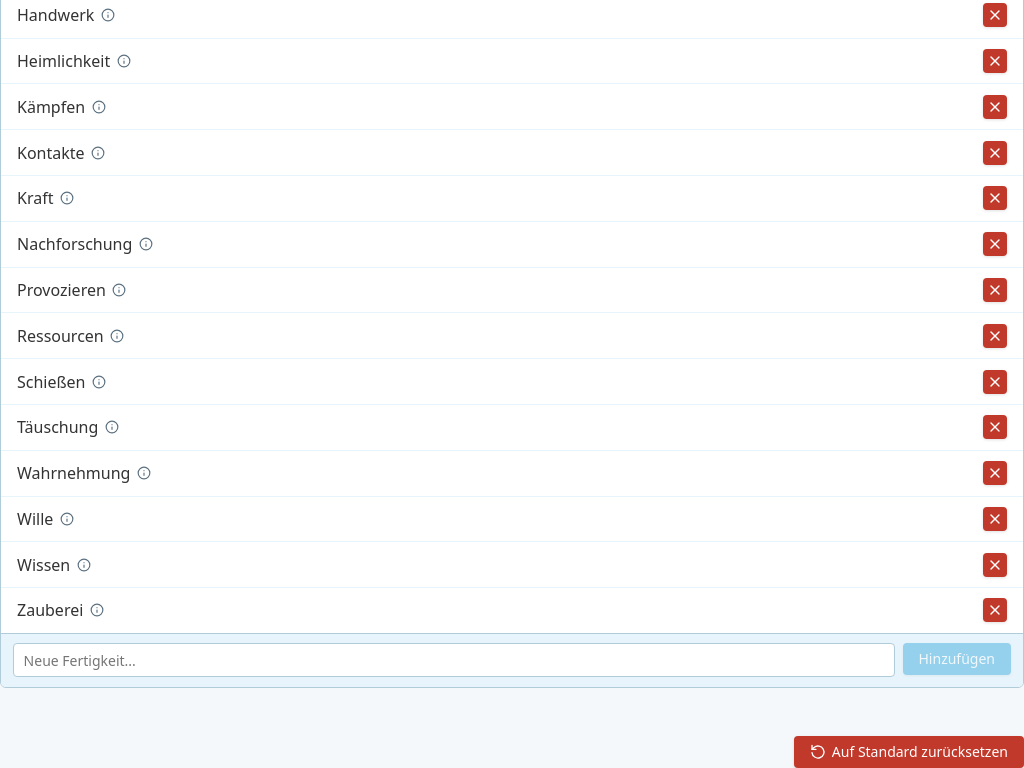
Test case: SkillsView › "Auf Standard zurücksetzen" button › clicking "Abbrechen" closes the dialog without resetting
The width and height of the screenshot is (1024, 768).
(page scrolled)
Click the text "Auf Standard zurücksetzen".
click(920, 752)  # box [832,745,1008,759]
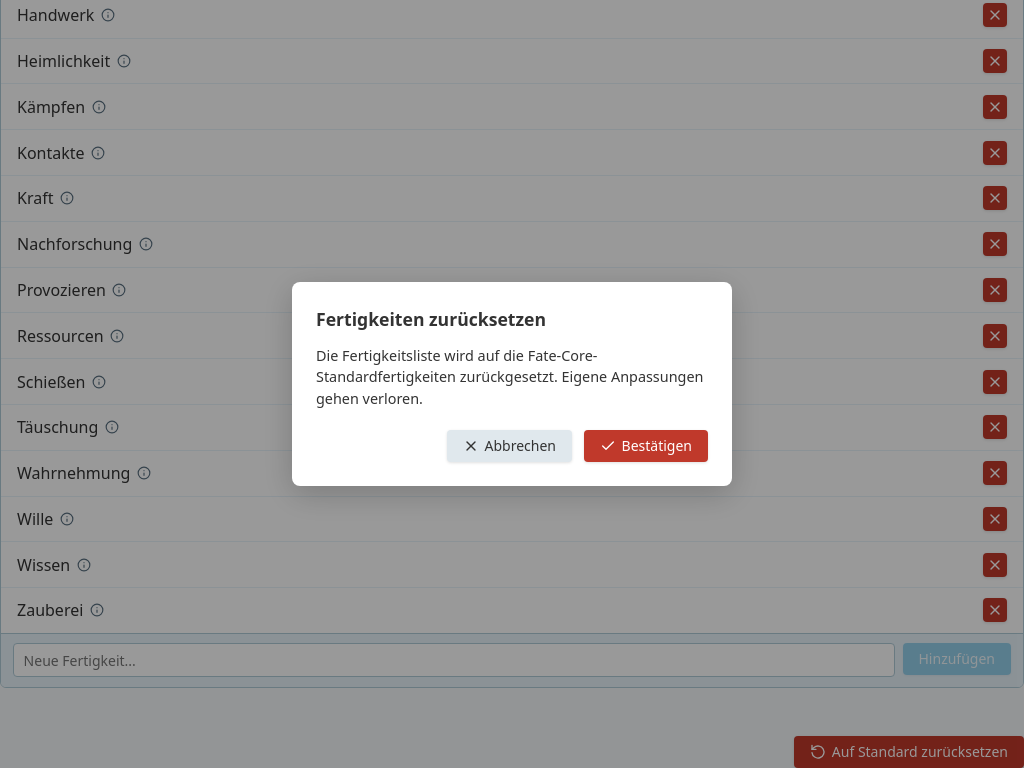
Click the button "Abbrechen".
click(509, 446)  # box [447,430,572,462]
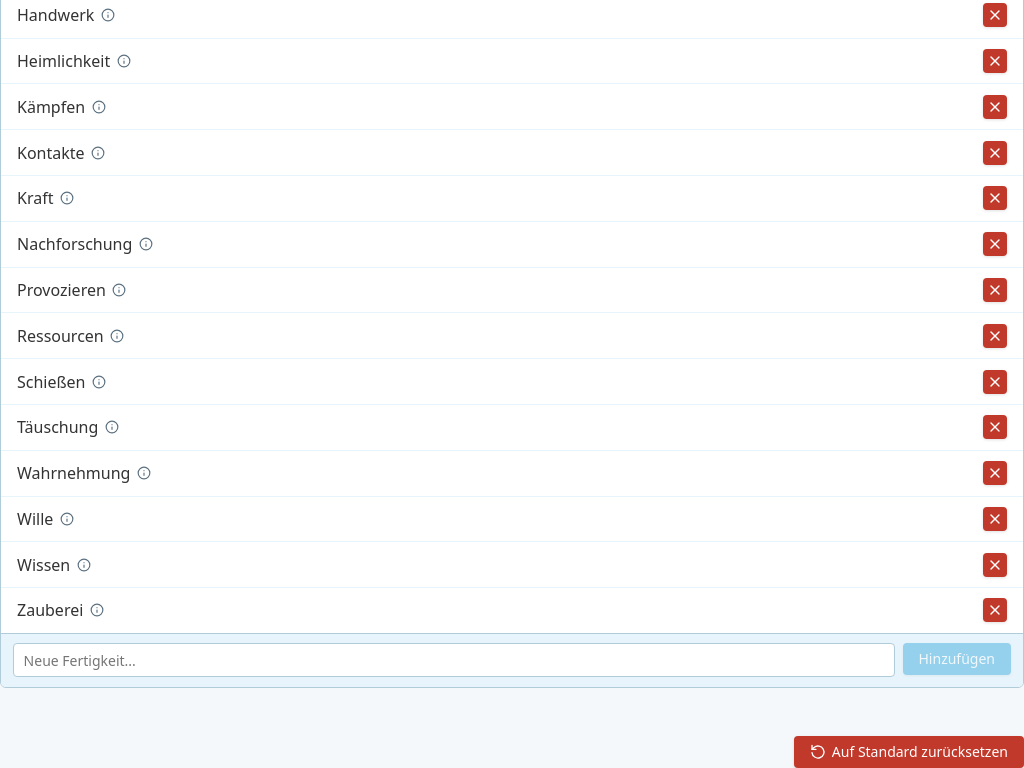
Result: the text "Fertigkeiten zurücksetzen" is gone
